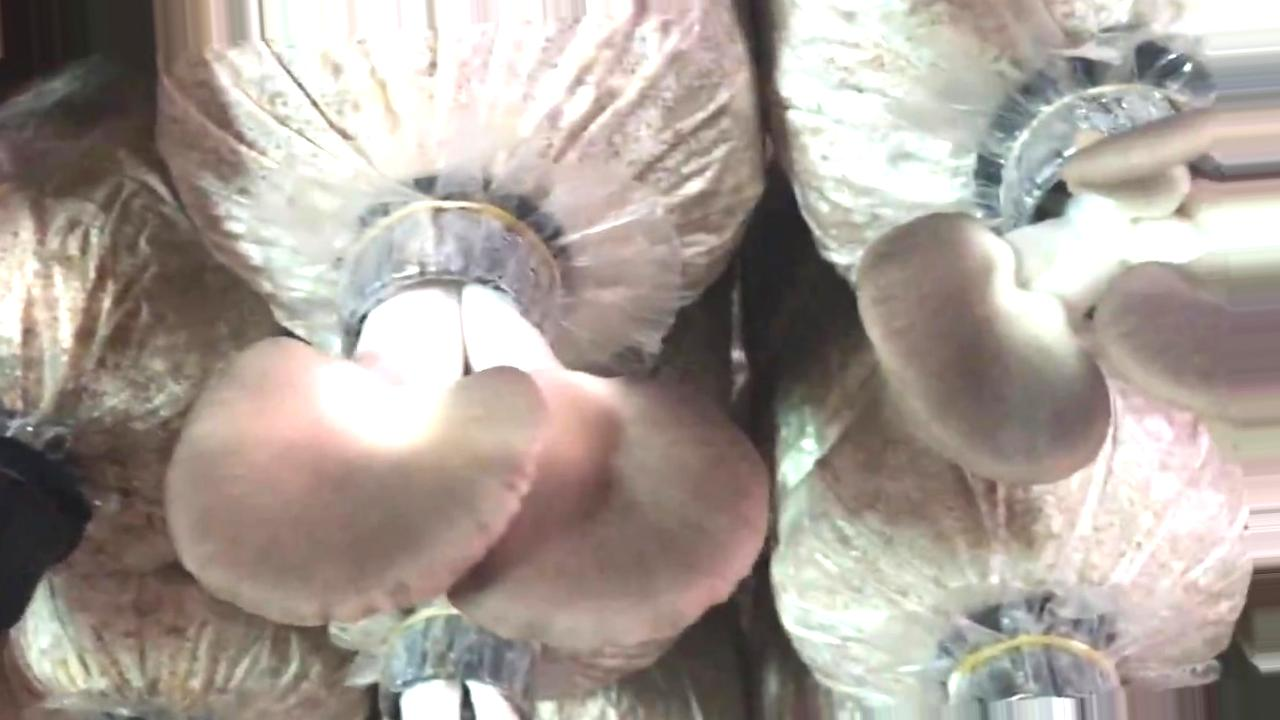nam: (163, 180, 777, 656), (855, 92, 1280, 489)
